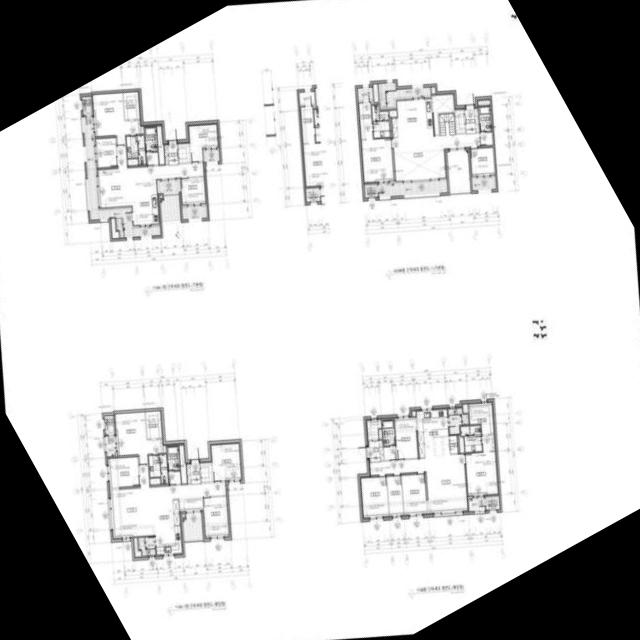background: (0, 0, 640, 640)
space_balconi: (83, 117, 161, 238), (379, 83, 431, 107), (378, 181, 448, 198), (447, 151, 471, 193), (160, 195, 181, 222), (183, 514, 203, 541), (182, 206, 207, 220), (138, 537, 156, 556), (472, 178, 496, 191), (159, 180, 179, 194), (357, 88, 374, 102), (469, 498, 485, 512), (106, 436, 116, 457), (204, 150, 220, 162)
space_bedroom: (115, 412, 163, 465), (93, 93, 141, 145), (466, 435, 499, 496), (362, 139, 394, 182), (211, 443, 242, 481), (361, 477, 389, 518), (189, 124, 219, 162), (203, 496, 230, 537), (402, 474, 428, 515), (108, 457, 140, 488), (395, 418, 418, 459), (181, 177, 206, 205), (471, 148, 495, 176), (95, 138, 117, 168)
space_dressroom: (469, 403, 495, 435), (359, 103, 373, 141), (123, 92, 140, 120), (146, 411, 163, 439)
space_front: (367, 440, 384, 462), (465, 109, 479, 134), (164, 142, 179, 165), (187, 464, 201, 484)
space_kitchen: (417, 409, 450, 458), (153, 500, 182, 555), (392, 99, 433, 137), (131, 181, 159, 225)
space_living_room: (110, 465, 227, 538), (97, 145, 204, 210), (369, 454, 468, 513), (393, 133, 480, 181)
space_other: (432, 95, 454, 135), (387, 476, 404, 516), (439, 113, 456, 136), (179, 497, 203, 512), (179, 445, 187, 484), (157, 126, 165, 165), (367, 420, 382, 440), (455, 110, 466, 134), (178, 143, 191, 163), (200, 463, 213, 482), (146, 152, 159, 166), (480, 132, 493, 146), (133, 538, 142, 558), (384, 447, 397, 460), (169, 472, 181, 485), (111, 219, 119, 238), (450, 436, 458, 454), (459, 435, 465, 453), (373, 84, 379, 102), (128, 159, 138, 166), (478, 100, 490, 105), (389, 110, 397, 117), (463, 403, 468, 413), (431, 87, 435, 94), (379, 430, 382, 439), (141, 125, 144, 134), (164, 445, 166, 453), (413, 411, 416, 416), (182, 514, 185, 518), (160, 195, 163, 198)
space_outdoor_room: (104, 415, 115, 435), (82, 96, 93, 115), (486, 496, 500, 510), (364, 184, 378, 198)
space_toilet: (126, 135, 146, 165), (372, 105, 390, 138), (149, 455, 168, 485), (448, 408, 469, 435), (461, 425, 482, 452), (382, 420, 395, 446), (167, 446, 180, 471), (479, 106, 492, 131), (145, 127, 157, 151)
